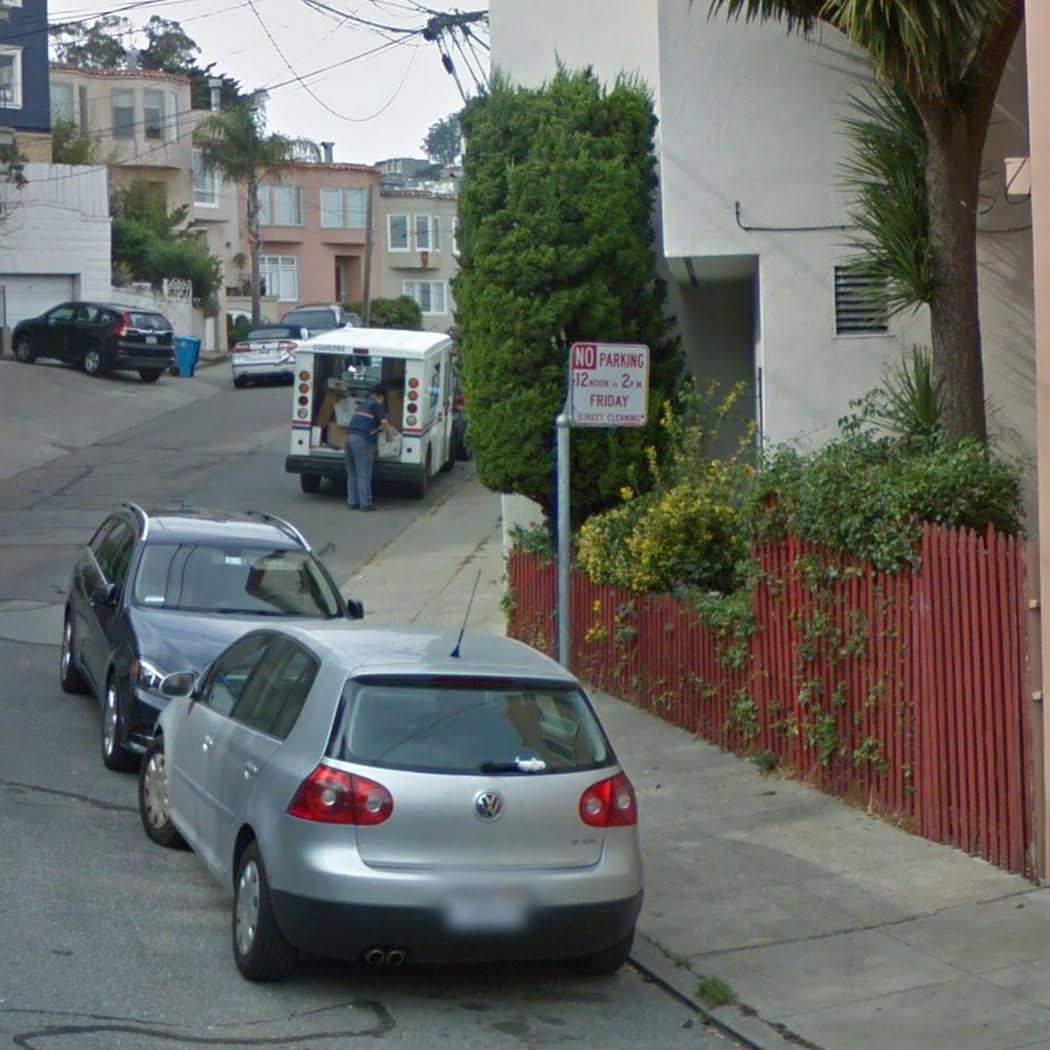No Parking: (564, 338, 653, 431)
